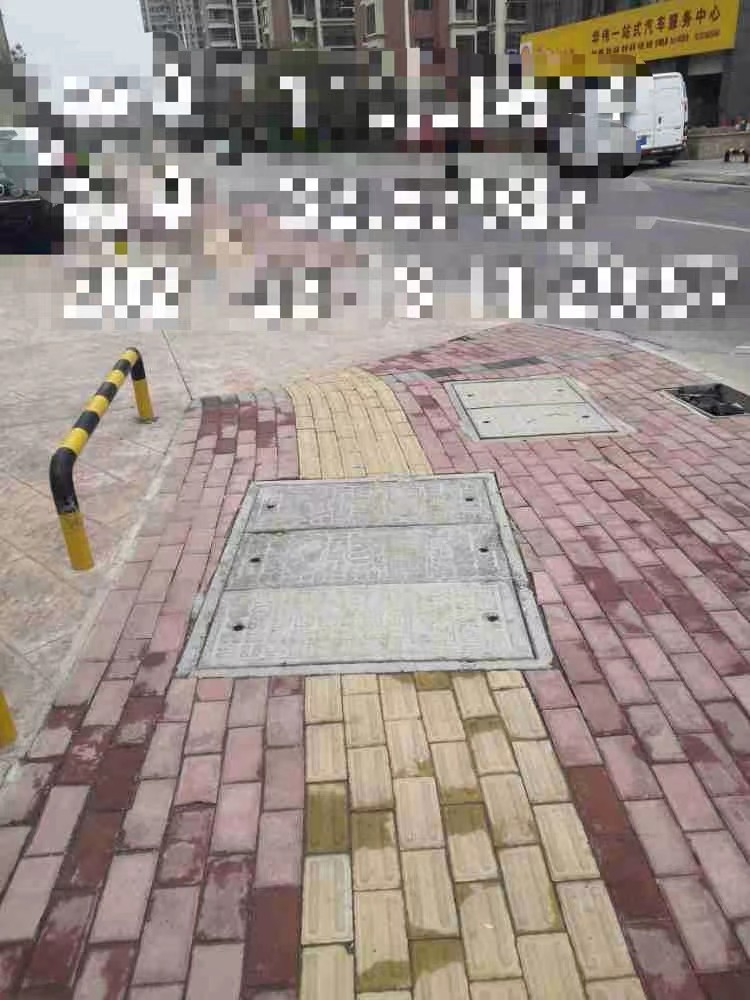well: (177, 471, 559, 677), (440, 373, 623, 441)
